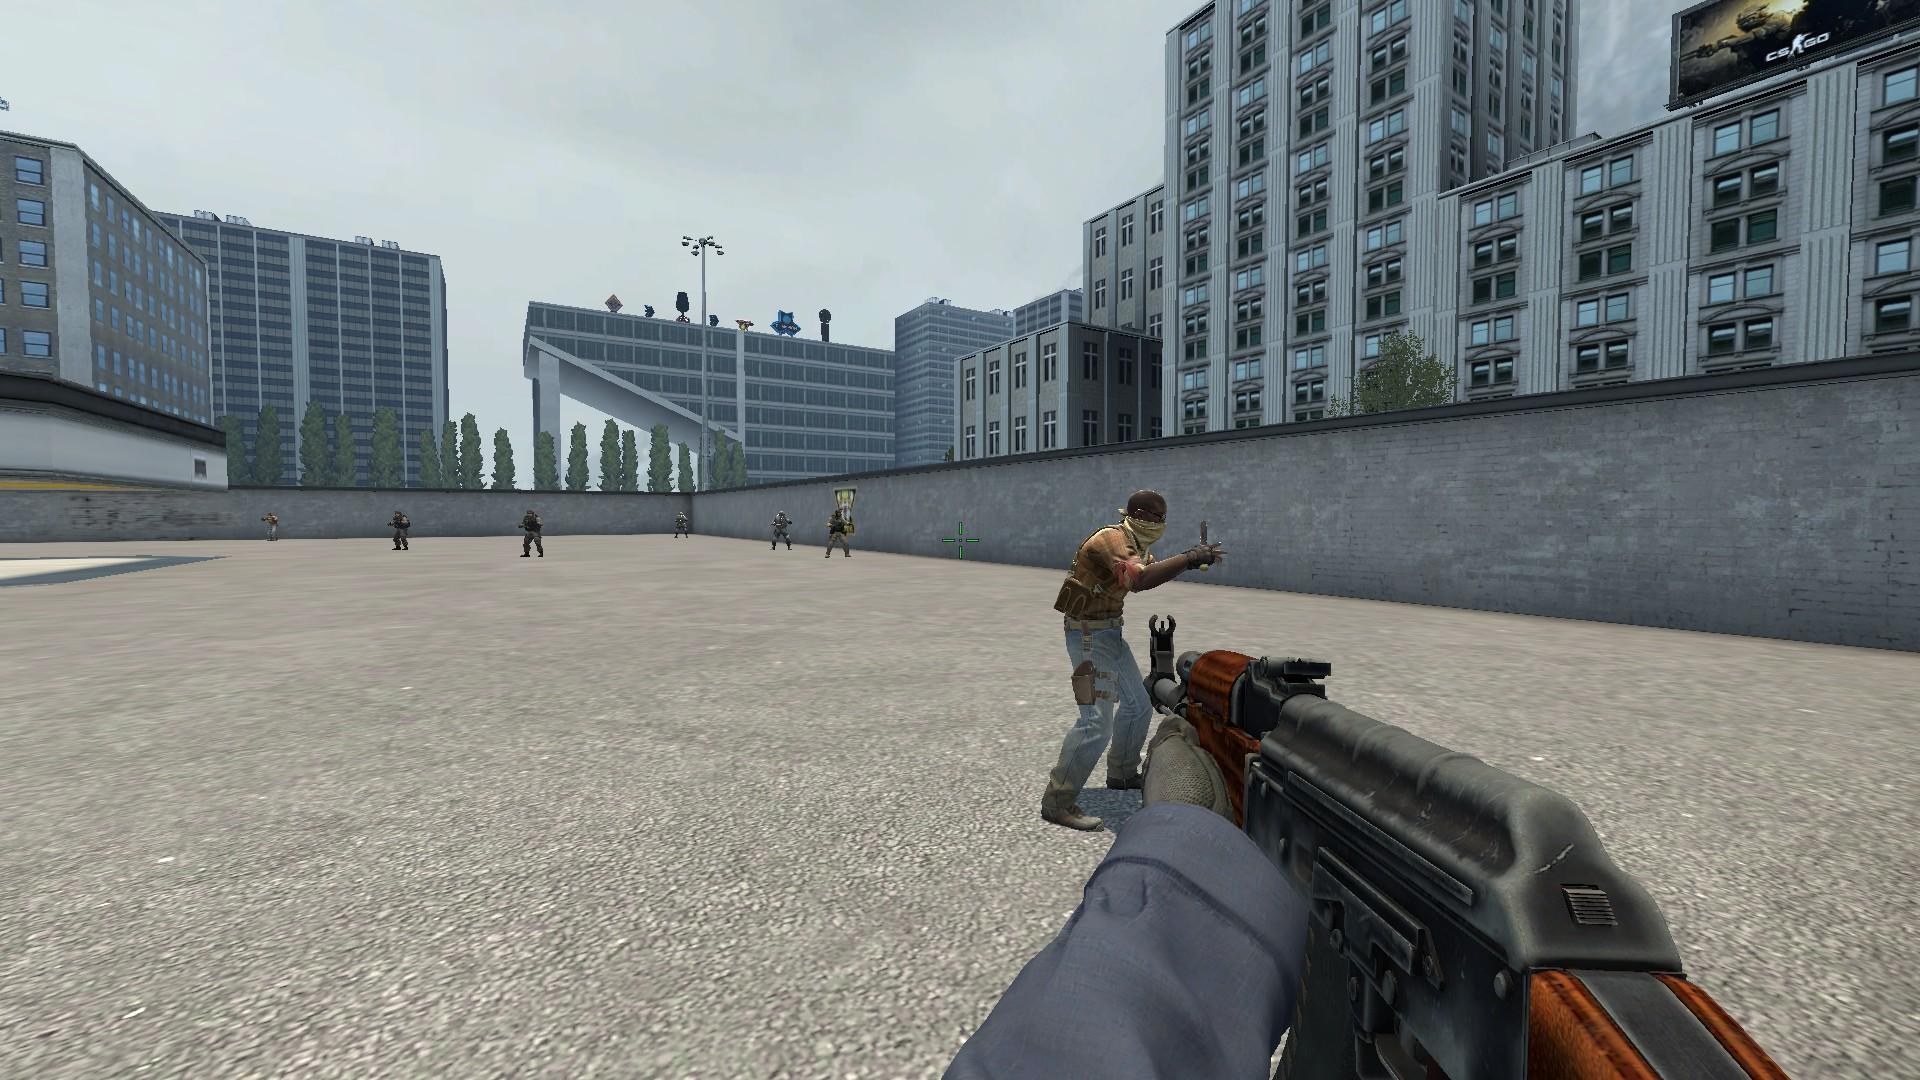tr: (1032, 485, 1227, 831)
tr head: (1117, 484, 1172, 550)
